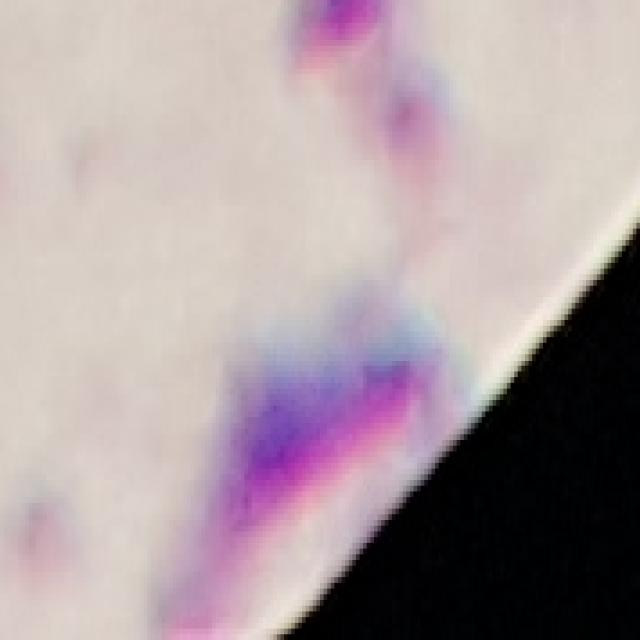non-sperm: (219, 323, 430, 543)
